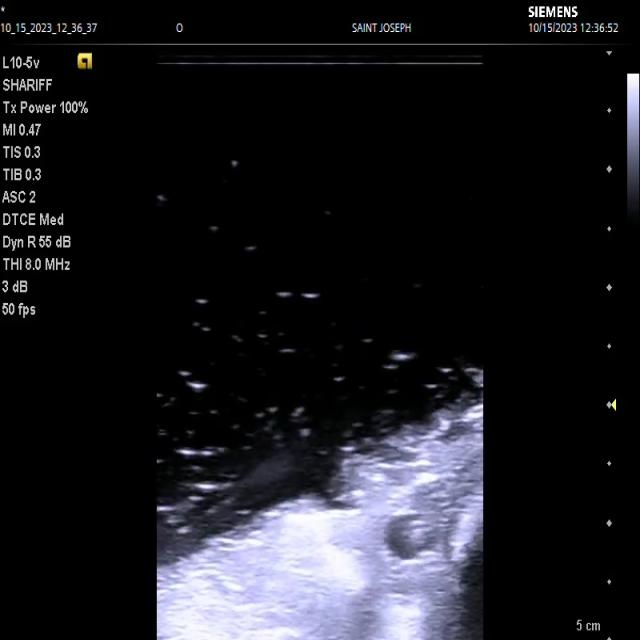tissue: (158, 399, 483, 640)
